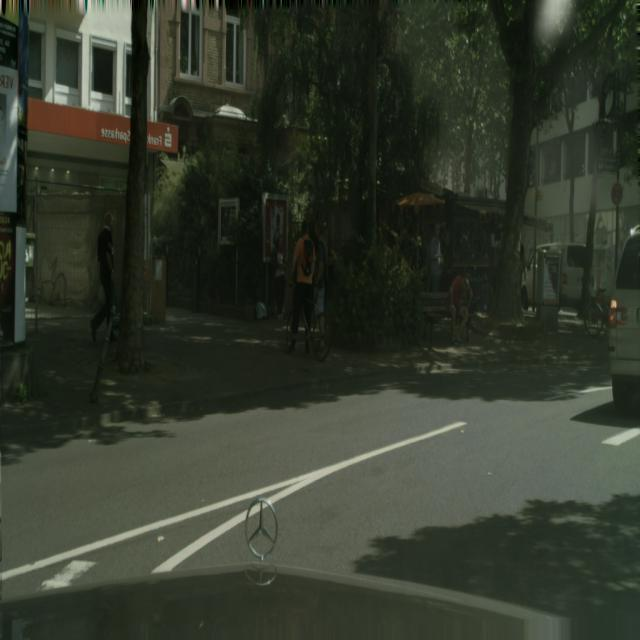bus: (288, 219, 315, 356), (89, 212, 115, 344), (444, 272, 473, 346), (311, 222, 327, 336), (269, 233, 286, 321), (429, 222, 444, 292)
person: (607, 228, 640, 416)
